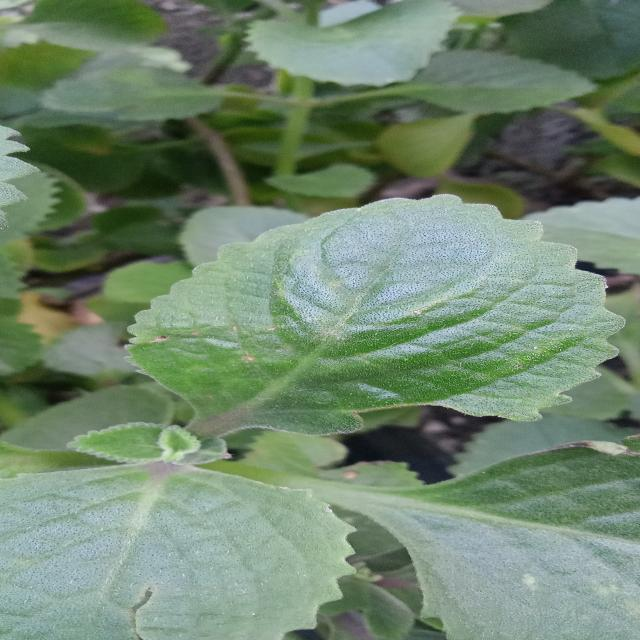Oregano: (114, 183, 633, 474)
